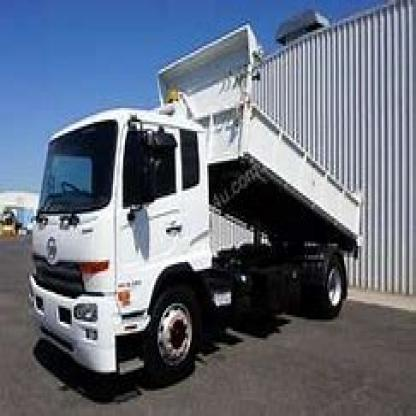dump_truck: (14, 11, 373, 400)
